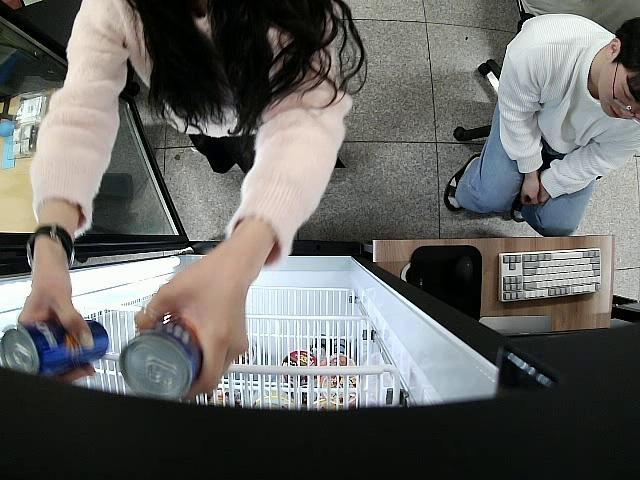16_hot6: (120, 318, 202, 403), (2, 316, 106, 379)
